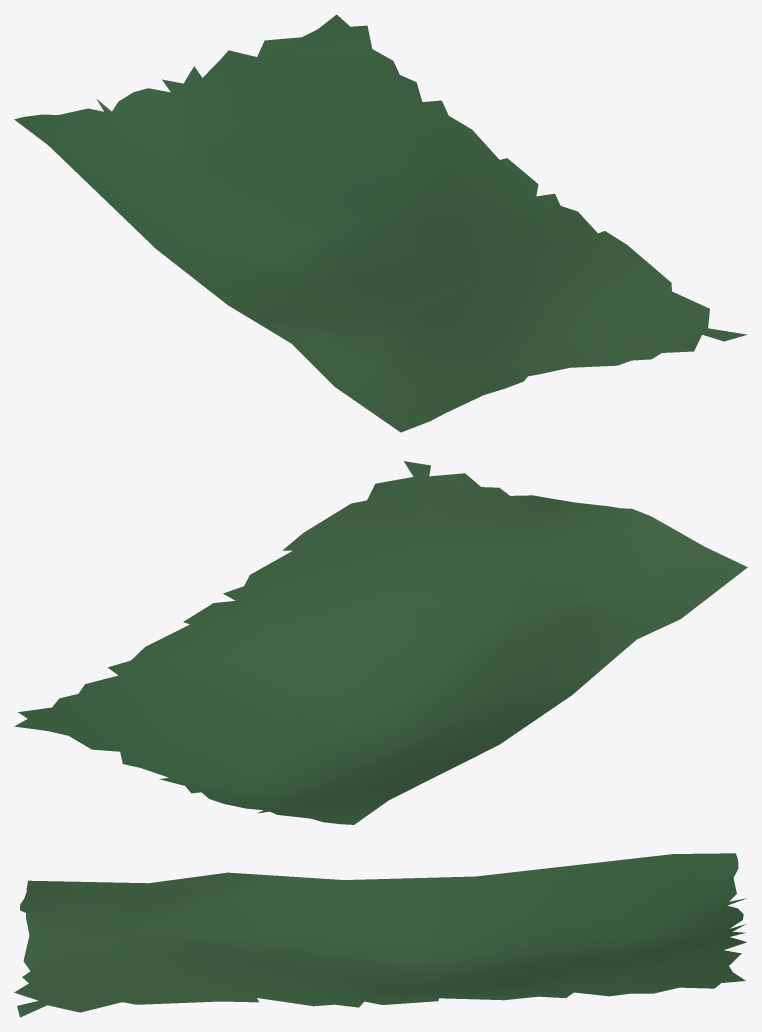
File: payo_land_x4_y8_lod2.glb
3 renders of one model, top to bottom at view 1: azimuth 30°, elevation 25°; view 2: azimuth 150°, elevation 25°; view 3: azimuth 270°, elevation 25°, orthographic. The views are drawn at different scales.
Visible parts, largest first — view 1: payo_land_x4_y8; view 2: payo_land_x4_y8; view 3: payo_land_x4_y8.
Part boxes in pixels (<box>): payo_land_x4_y8: <box>14,14,747,432</box>; payo_land_x4_y8: <box>14,461,747,824</box>; payo_land_x4_y8: <box>14,853,746,1017</box>.
Bounding box in the file's own units: 130 × 28.98 × 264.
